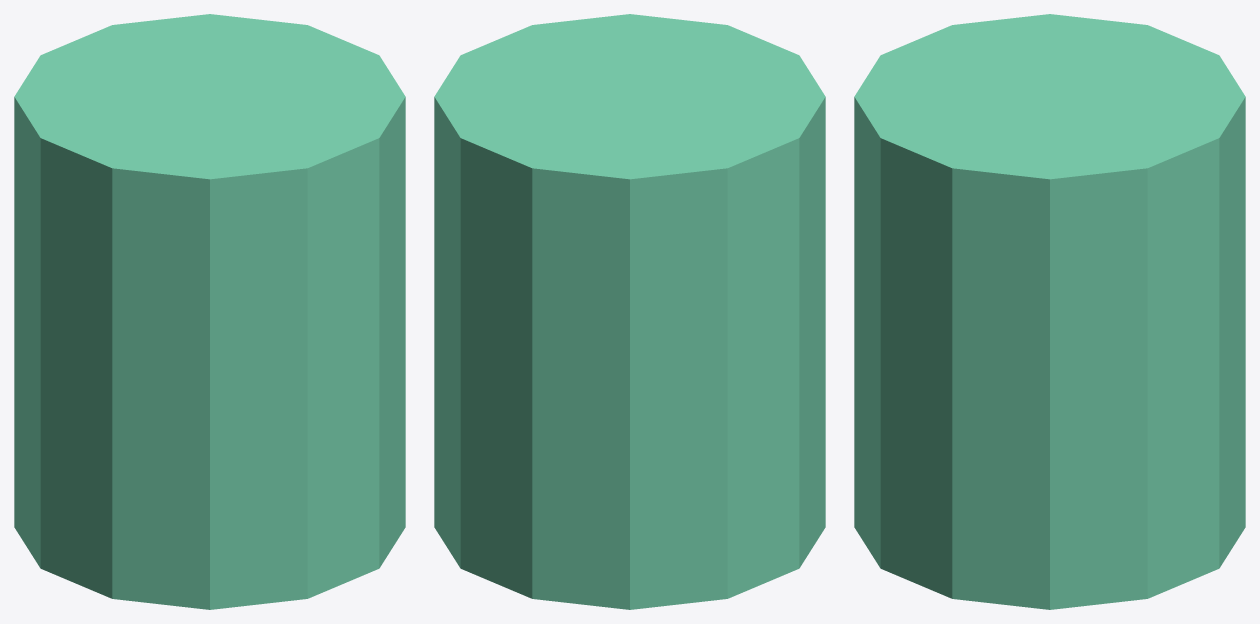
3 renders of one model, left to right at view 1: azimuth 30°, elevation 25°; view 2: azimuth 150°, elevation 25°; view 3: azimuth 270°, elevation 25°, orthographic.
Parts seen in each view (by area): view 1: Cylinder; view 2: Cylinder; view 3: Cylinder.
Part boxes in pixels (bbox=[...]): Cylinder: bbox=[14, 14, 405, 609]; Cylinder: bbox=[434, 14, 825, 609]; Cylinder: bbox=[854, 14, 1245, 609].
Size of the model in its own units: 1.4 by 1.7 by 1.4.
